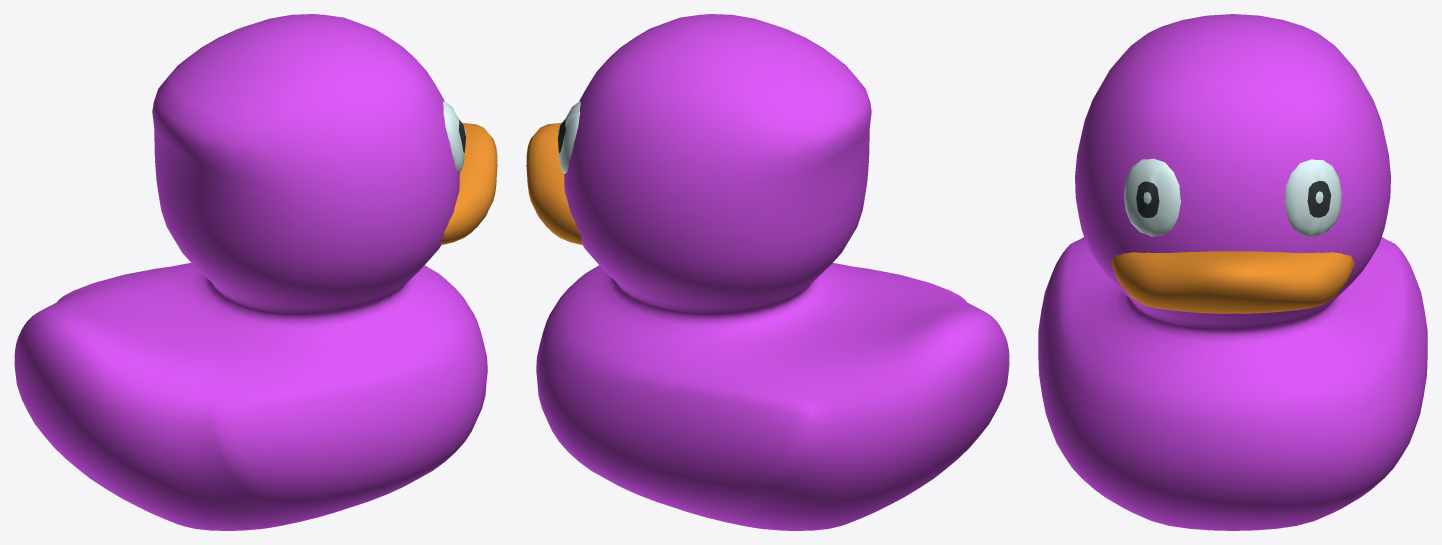
The model's file is Rubber Ducky Purple.fbx.
The picture shows the model from 3 angles, left to right: view 1: azimuth 30°, elevation 25°; view 2: azimuth 150°, elevation 25°; view 3: azimuth 270°, elevation 25°; orthographic projection. The views are drawn at different scales.
Visible parts, largest first — view 1: Rubber_Duck; view 2: Rubber_Duck; view 3: Rubber_Duck.
Boxes of the visible parts, x1,y1,x2,y2 form: Rubber_Duck: (14, 14, 497, 530); Rubber_Duck: (526, 14, 1009, 530); Rubber_Duck: (1038, 14, 1427, 530).
Size of the model in its own units: 8.53 by 8.27 by 6.1.
Materials: 1 (1 with a texture image).
